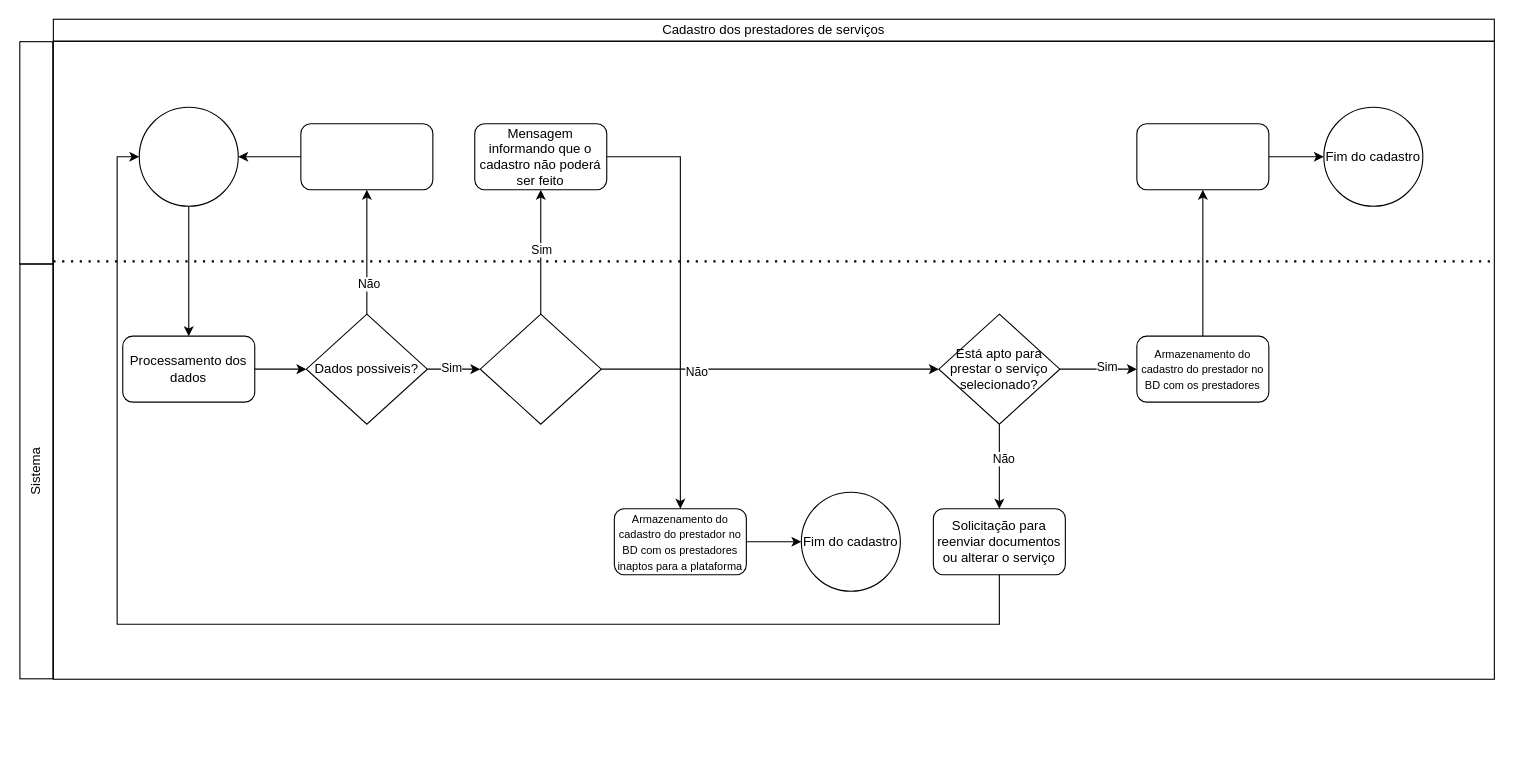
The diagram is 1514 pixels wide and 757 high, and some of its shapes have lost their labels. The box of each missing label's shape, as (x1, y1, x2, y2) in pixels:
Mensagem informando que o cadastro foi concluido: (1136, 123, 1269, 190)
Mensagem informando que o dados são repetidos ou invalidos: (300, 123, 433, 190)
Possui antecedentes criminais?: (479, 313, 601, 424)
Prenchimento dos dados: (138, 106, 238, 206)
Prestador de serviços: (19, 41, 53, 264)
